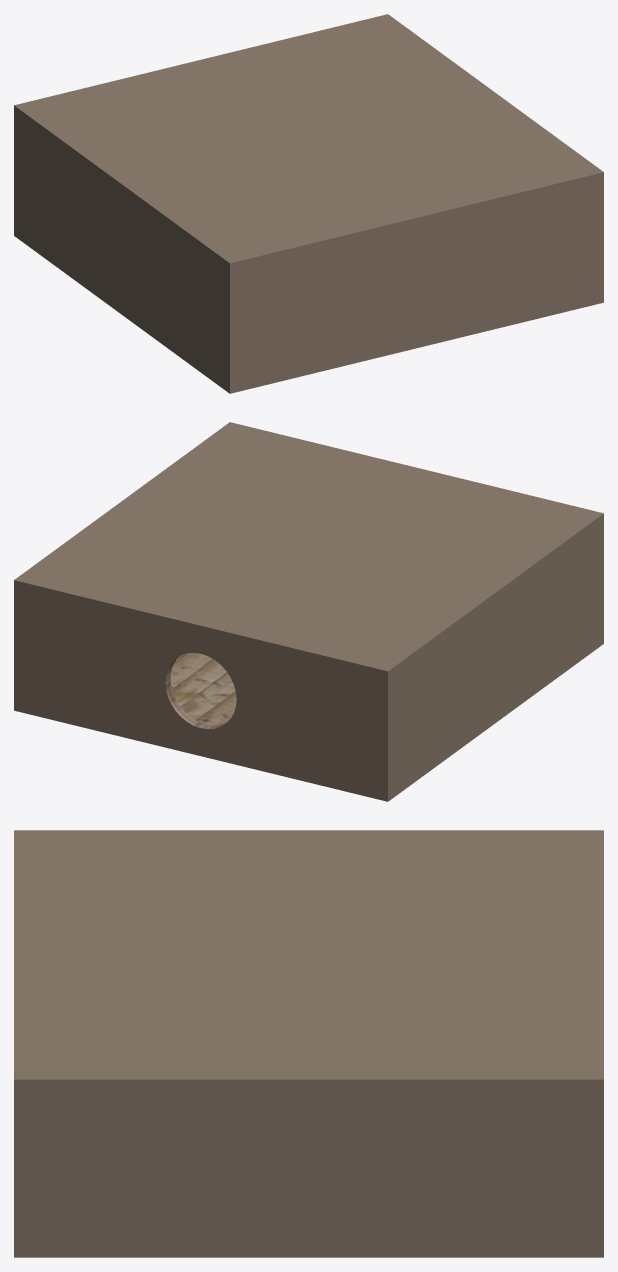
Rendered from room3.dae.
3 renders of one model, top to bottom at view 1: azimuth 30°, elevation 25°; view 2: azimuth 150°, elevation 25°; view 3: azimuth 270°, elevation 25°, orthographic. The views are drawn at different scales.
Visible parts, largest first — view 1: Außen; view 2: Außen; view 3: Außen.
Boxes of the visible parts, x1,y1,x2,y2 form: Außen: (14, 14, 603, 393); Außen: (14, 422, 603, 801); Außen: (14, 830, 603, 1257).
Bounding box in the file's own units: 21 × 21 × 7.
1 material, 1 textured.
